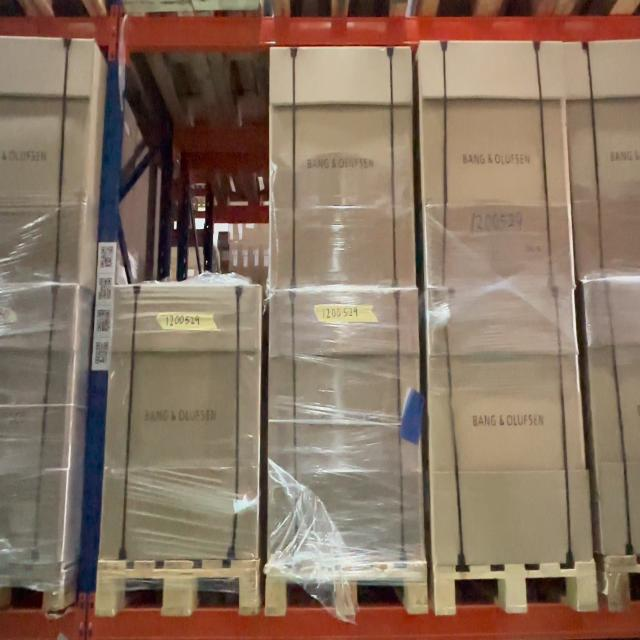box: (428, 288, 591, 562), (100, 284, 257, 557), (270, 294, 422, 562), (421, 38, 573, 289), (270, 49, 414, 286)
